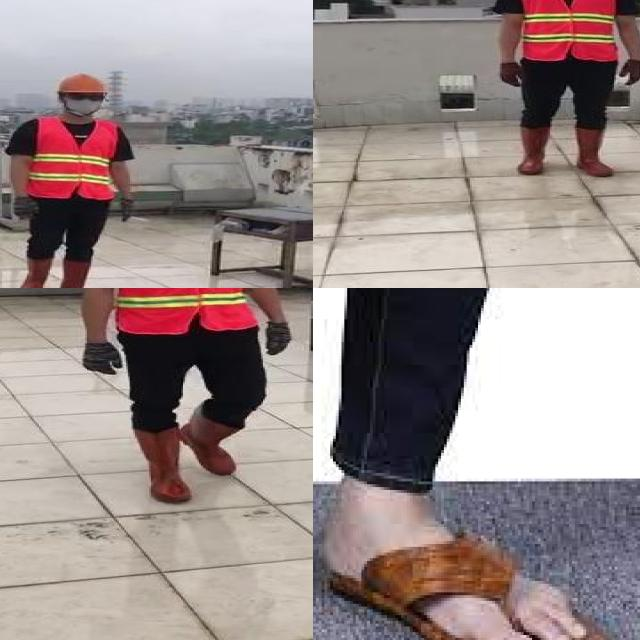Sandals: (316, 468, 608, 640)
boots: (178, 404, 245, 475), (135, 429, 195, 505), (577, 126, 614, 177), (516, 124, 552, 175), (57, 258, 99, 288), (20, 255, 52, 288)
face_mask: (61, 91, 107, 116)
glasses: (62, 90, 107, 103)
hand_glove: (260, 320, 300, 356), (80, 341, 122, 375), (13, 197, 41, 223), (619, 58, 640, 86), (501, 62, 524, 87), (114, 199, 135, 226)
head_helmet: (54, 72, 110, 94)
person: (69, 288, 296, 511), (1, 70, 142, 288), (489, 0, 640, 177)
vest: (27, 117, 117, 199), (108, 288, 261, 332), (523, 0, 617, 62)
